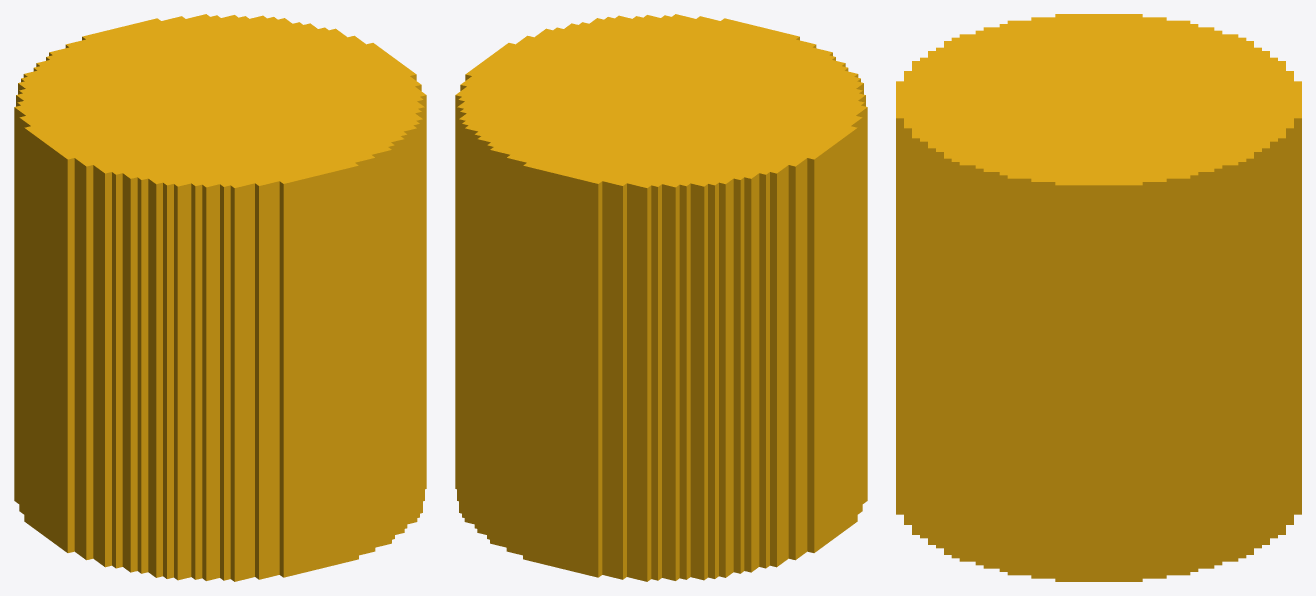
Rendered from tube2_sides.obj.
The picture shows the model from 3 angles, left to right: view 1: azimuth 30°, elevation 25°; view 2: azimuth 150°, elevation 25°; view 3: azimuth 270°, elevation 25°; orthographic projection.
Parts seen in each view (by area): view 1: Untitled; view 2: Untitled; view 3: Untitled.
Boxes of the visible parts, x1,y1,x2,y2 form: Untitled: [14, 14, 426, 581]; Untitled: [455, 14, 867, 581]; Untitled: [896, 14, 1301, 581].
Bounding box in the file's own units: 5.1 × 5.8 × 5.1.
Materials: 2 (1 with a texture image).
